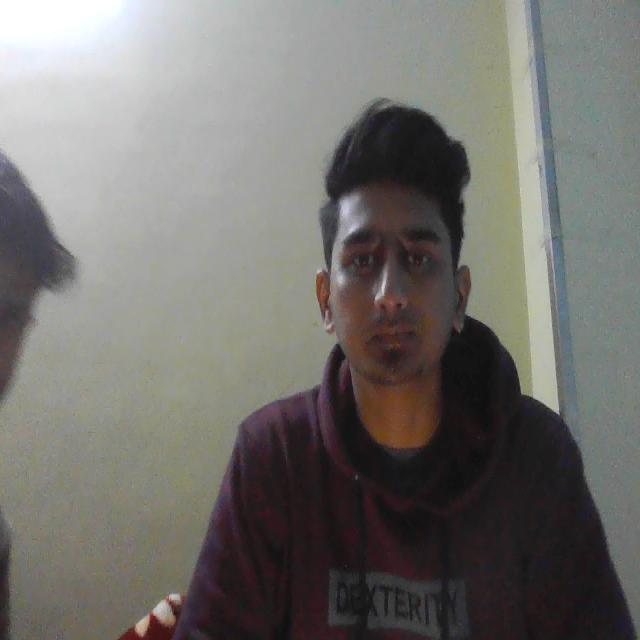real: (319, 117, 478, 419)
